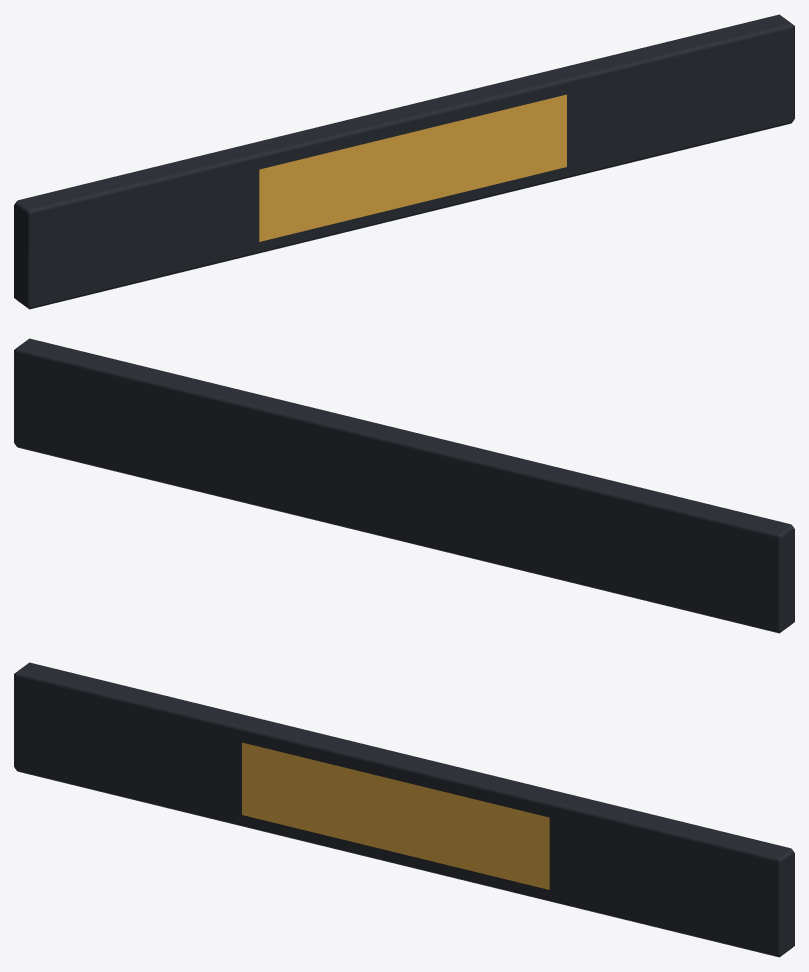
Rendered from CM_Interior_PriceTagHolder.fbx.
3 views of the same model, one above another, from view 1: azimuth 30°, elevation 25°; view 2: azimuth 150°, elevation 25°; view 3: azimuth 330°, elevation 25° (orthographic).
Visible parts, largest first — view 1: Body, Face; view 2: Body; view 3: Body, Face.
Part boxes in pixels (<box>): Body: <box>14,14,794,309</box>; Face: <box>259,94,566,241</box>; Body: <box>14,338,794,633</box>; Body: <box>14,662,794,957</box>; Face: <box>242,742,549,889</box>.
Size of the model in its own units: 4 by 0.15 by 0.5.
Materials: 1 (1 with a texture image).
